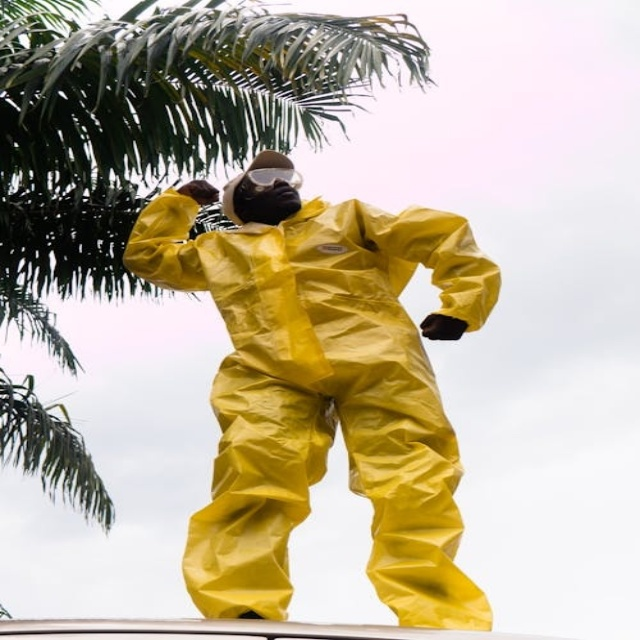Gafas: (237, 167, 304, 192)
Guantes: (175, 177, 221, 207), (420, 314, 468, 341)
Mascara: (234, 176, 301, 225)
